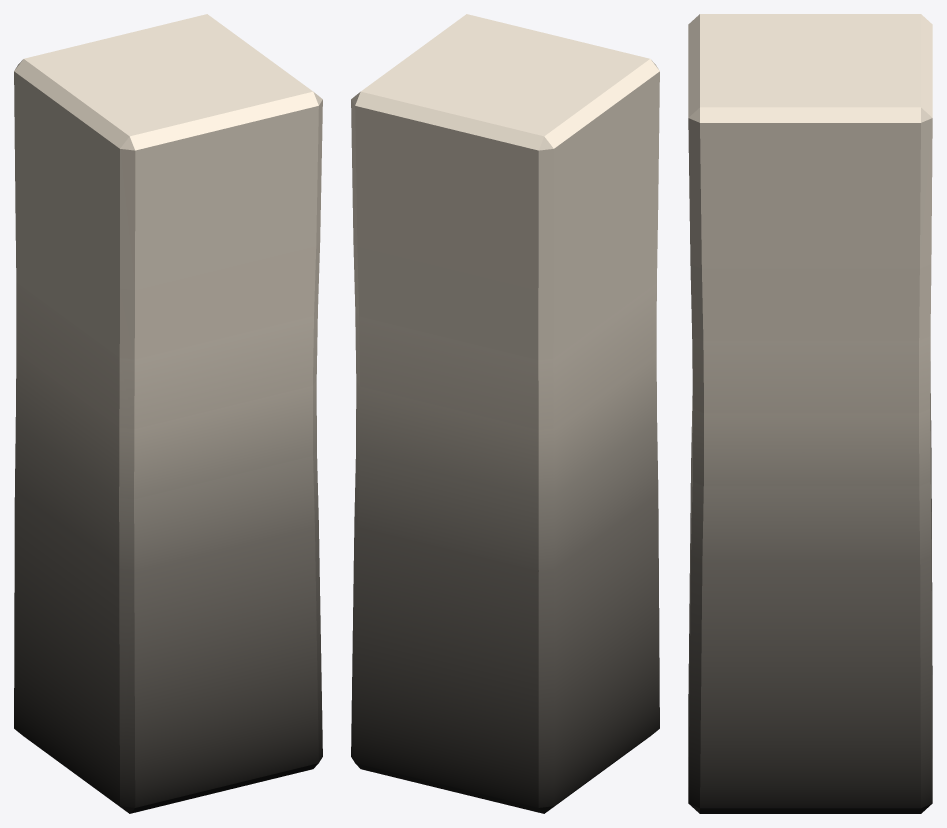
File: SM_VKI_Post_Wattle_Corner_Cut.fbx
3 renders of one model, left to right at view 1: azimuth 30°, elevation 25°; view 2: azimuth 150°, elevation 25°; view 3: azimuth 270°, elevation 25°, orthographic. The views are drawn at different scales.
Visible parts, largest first — view 1: SM_VKI_Post_Wattle_Corner_Cut.001; view 2: SM_VKI_Post_Wattle_Corner_Cut.001; view 3: SM_VKI_Post_Wattle_Corner_Cut.001.
Part boxes in pixels (x1,y1,x2,y2): SM_VKI_Post_Wattle_Corner_Cut.001: (14,14,322,813); SM_VKI_Post_Wattle_Corner_Cut.001: (351,14,659,813); SM_VKI_Post_Wattle_Corner_Cut.001: (688,14,932,813).
Size of the model in its own units: 0.42 by 1.34 by 0.42.
